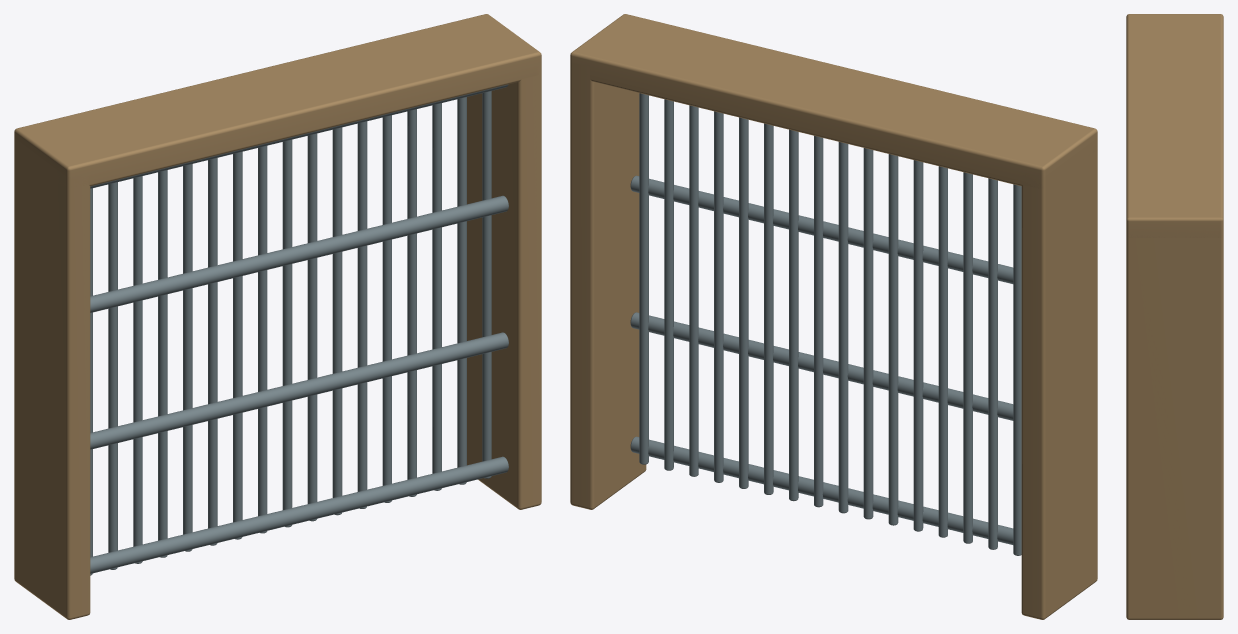
File: security_grille.fbx
3 views of the same model, side by side, from view 1: azimuth 30°, elevation 25°; view 2: azimuth 150°, elevation 25°; view 3: azimuth 270°, elevation 25° (orthographic). The views are drawn at different scales.
Visible parts, largest first — view 1: security_grille; view 2: security_grille; view 3: security_grille.
Part boxes in pixels (x1,y1,x2,y2): security_grille: [14, 14, 541, 619]; security_grille: [570, 14, 1097, 619]; security_grille: [1126, 14, 1223, 619].
Bounding box in the file's own units: 400 × 365 × 80.
